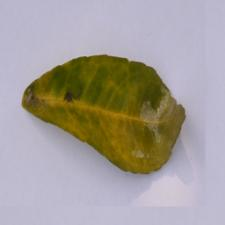Greening: (29, 39, 180, 173)
